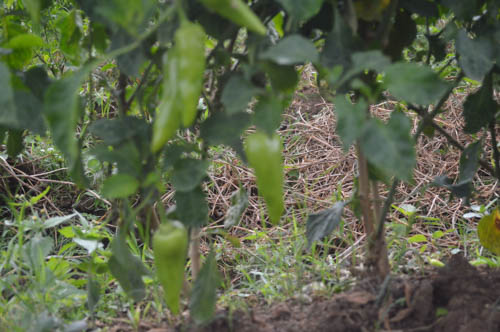ChiliPepper: (248, 135, 287, 220), (150, 46, 181, 151), (176, 27, 208, 120), (154, 224, 186, 313)
